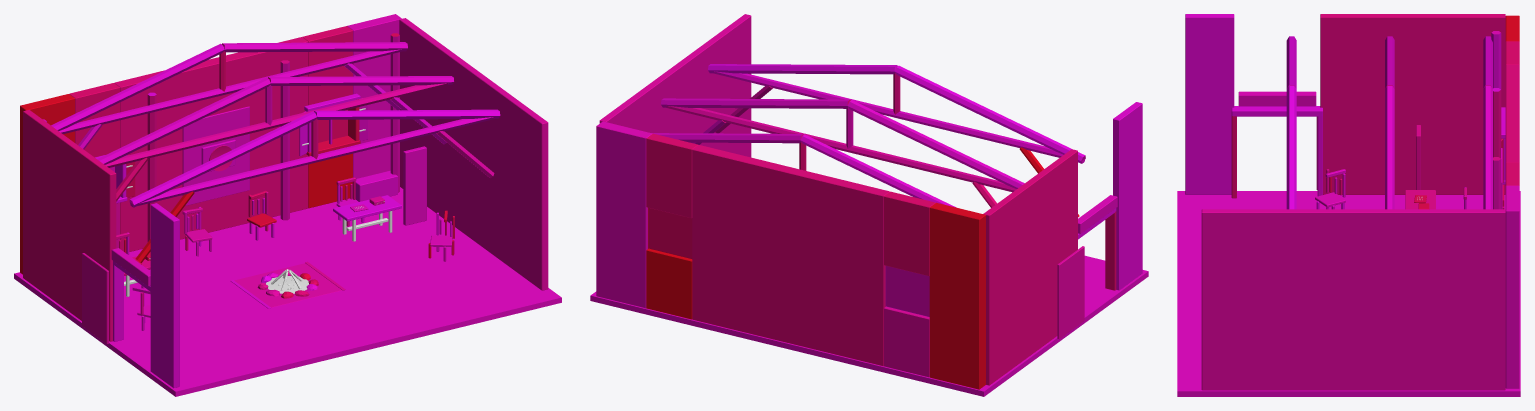
Rendered from court_chapter_07.glb.
3 renders of one model, left to right at view 1: azimuth 30°, elevation 25°; view 2: azimuth 150°, elevation 25°; view 3: azimuth 270°, elevation 25°, orthographic. The views are drawn at different scales.
Visible parts, largest first — view 1: Floor, WallRight, WallBackPier_1, WallLeftRear, WallLeftFront, Rafters_2, WallBackPier_end, Rafters_0, Rafters_1, HallHanging, TrussTie_2, TrussTie_1 (+22 smaller); view 2: WallBackPier_1, WallLeftRear, WallBackPier_0, WallBackPier_end, WallRight, Floor, WallLeftFront, Rafters_2, Rafters_1, WallBackHigh_1, WallBackHigh_0, WallBackLow_1 (+9 smaller); view 3: WallRight, WallLeftRear, Floor, WallLeftFront, WallBackPier_end, Rafters_2, Rafters_1, Rafters_0, WallBackPier_1, DoorLintel, EntranceHeader, Chair_officials_2 (+10 smaller).
Part boxes in pixels (x1,y1,x2,y2): Floor: (14, 187, 561, 396); WallRight: (399, 18, 548, 290); WallBackPier_1: (114, 37, 308, 251); WallLeftRear: (23, 110, 116, 341); WallLeftFront: (150, 203, 179, 388); Rafters_2: (129, 109, 500, 207); WallBackPier_end: (347, 14, 401, 178); Rafters_0: (51, 42, 407, 130); Rafters_1: (97, 76, 453, 164); HallHanging: (182, 106, 249, 205); TrussTie_2: (130, 117, 494, 206); TrussTie_1: (105, 83, 448, 167); WallBackPier_1: (692, 145, 889, 366); WallLeftRear: (983, 149, 1077, 385); WallBackPier_0: (929, 202, 985, 389); WallBackPier_end: (596, 121, 652, 308); WallRight: (599, 14, 751, 157); Floor: (590, 255, 1148, 396); WallLeftFront: (1113, 102, 1142, 290); Rafters_2: (708, 64, 1085, 163); Rafters_1: (661, 98, 1024, 188); WallBackHigh_1: (646, 133, 697, 218); WallBackHigh_0: (884, 191, 935, 275); WallBackLow_1: (646, 248, 692, 319); WallRight: (1201, 209, 1505, 390); WallLeftRear: (1320, 14, 1505, 194); Floor: (1177, 191, 1520, 396); WallLeftFront: (1185, 14, 1234, 194); WallBackPier_end: (1505, 185, 1519, 388); Rafters_2: (1286, 36, 1296, 209); Rafters_1: (1385, 36, 1394, 209); Rafters_0: (1483, 36, 1492, 209); WallBackPier_1: (1505, 64, 1519, 162); DoorLintel: (1238, 91, 1316, 106); EntranceHeader: (1231, 106, 1322, 116); Chair_officials_2: (1315, 169, 1345, 209).
Size of the model in its own units: 11.7 by 5.7 by 8.4.
